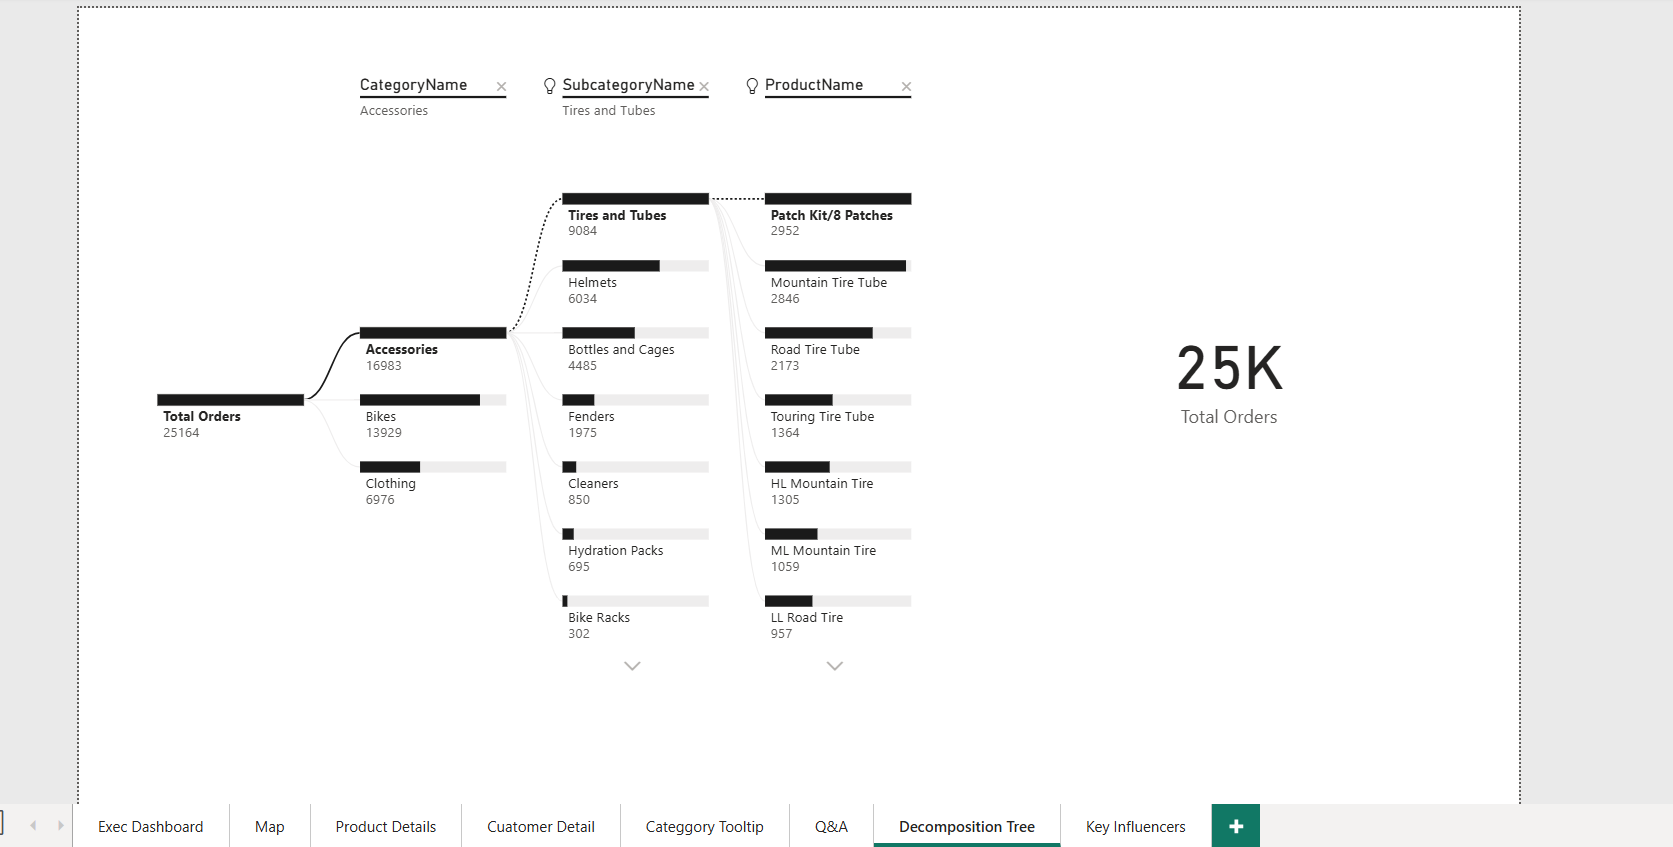

The dashboard page shown, as its layout file describes it:
{"tool":"powerbi","page":{"name":"Decomposition Tree","canvas":[1280,720],"ordinal":6},"visuals":[{"type":"decompositionTreeVisual","fields":{"ExplainBy":["Product Categories Lookup.CategoryName","Product Subcategories Lookup.SubcategoryName","Product Lookup.ProductName"],"Analyze":["Measure Table.Total Orders"]},"box":[40,43.3,766.7,588.3],"z":0},{"type":"card","fields":{"Values":["Measure Table.Total Orders"]},"box":[886.7,228.3,271.7,190],"z":1000}]}

Visuals, with their boxes on the page's 1280x720 design canvas (x1, y1, x2, y2). These are canvas units, not pixel positions in the 1673x847 screenshot, which may show the page scaled, cropped or inside an application window:
decompositionTreeVisual - Product Categories Lookup.CategoryName x Product Subcategories Lookup.SubcategoryName: BBox(40, 43, 807, 632)
card - Measure Table.Total Orders: BBox(887, 228, 1158, 418)
